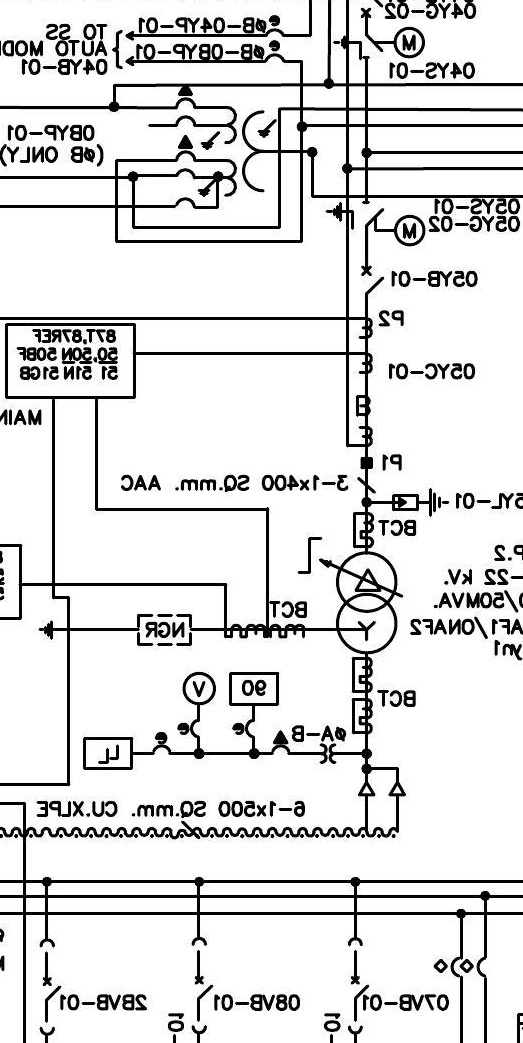11522_tx_dyn1: (335, 550, 399, 655)
115_3ways_ds_w_motor: (325, 201, 426, 248), (332, 26, 426, 61)
115_breaker: (352, 266, 376, 296)
115_la: (391, 487, 450, 518)
115_vt_1p: (174, 84, 278, 198)
22_breaker: (39, 937, 63, 1037), (190, 936, 214, 1035), (347, 936, 370, 1035)
LL: (82, 736, 135, 771)
NGR_future: (38, 613, 193, 648)
terminator_double: (357, 766, 407, 797)
v_m: (182, 671, 217, 707)
